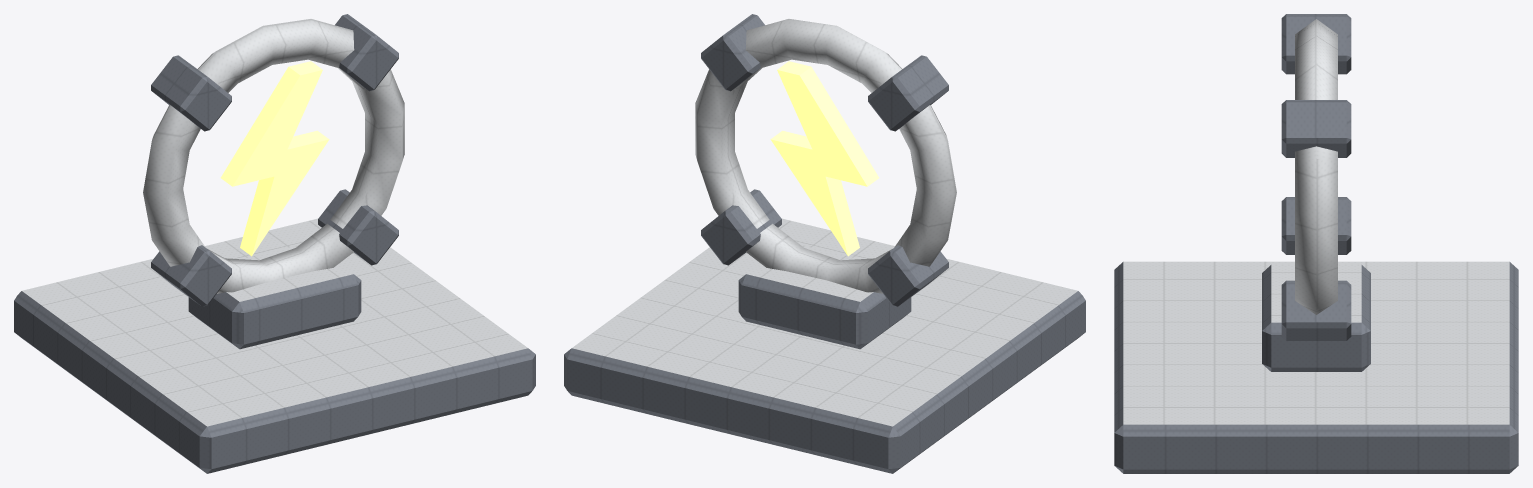
The model's file is R4X_RechargePulse_LOD1.glb.
3 views of the same model, side by side, from view 1: azimuth 30°, elevation 25°; view 2: azimuth 150°, elevation 25°; view 3: azimuth 270°, elevation 25° (orthographic). The views are drawn at different scales.
Parts seen in each view (by area): view 1: R4X_RechargePulse_LOD1; view 2: R4X_RechargePulse_LOD1; view 3: R4X_RechargePulse_LOD1.
Part boxes in pixels (left/top/right/bottom): R4X_RechargePulse_LOD1: left=14, top=14, right=535, bottom=473; R4X_RechargePulse_LOD1: left=564, top=14, right=1085, bottom=473; R4X_RechargePulse_LOD1: left=1114, top=14, right=1518, bottom=473.
Bounding box in the file's own units: 0.52 × 0.5081 × 0.52.
Materials: 3 (2 with a texture image).
